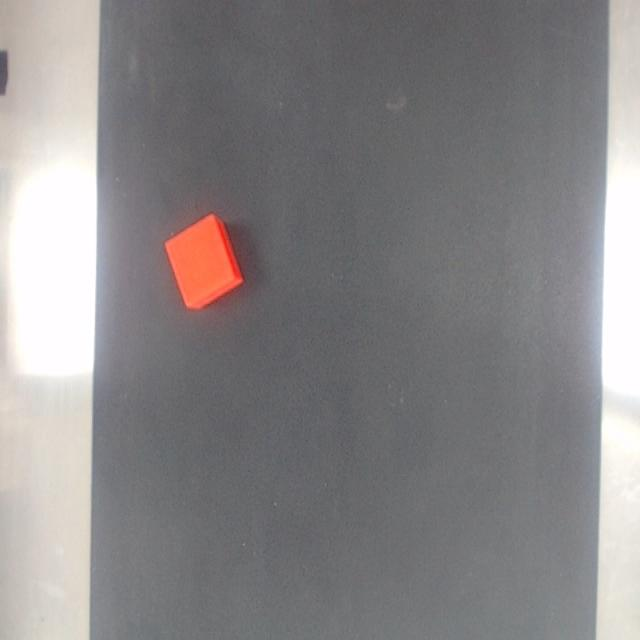Rojo: (164, 213, 243, 309)
